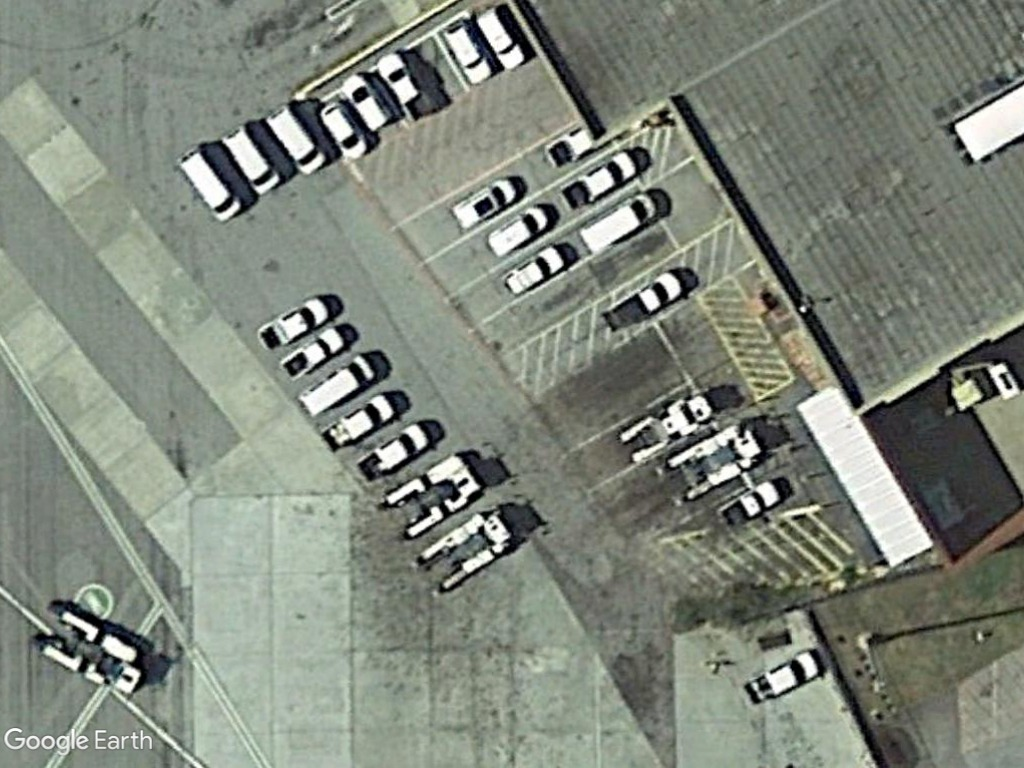car: (334, 73, 394, 136), (446, 177, 518, 228), (317, 100, 373, 163), (500, 243, 569, 290)
other: (351, 418, 440, 488), (372, 49, 439, 127), (556, 149, 639, 211), (319, 391, 395, 457), (738, 647, 821, 705), (256, 289, 330, 353), (279, 326, 351, 383)
pushbacktruck: (34, 605, 147, 699), (413, 506, 523, 600), (651, 420, 765, 509), (382, 450, 489, 541), (619, 390, 724, 466)
van: (575, 187, 661, 259), (295, 351, 378, 422), (175, 145, 243, 225), (215, 125, 283, 200), (264, 103, 330, 175), (485, 204, 554, 259), (465, 10, 526, 72), (442, 20, 497, 87)
